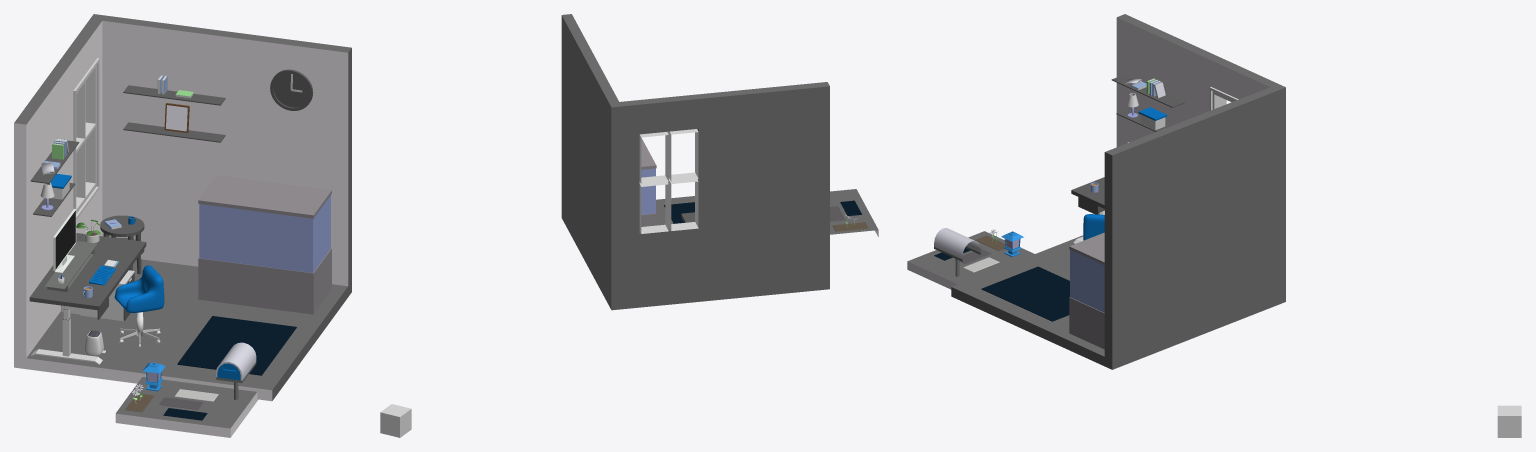
Rendered from Finale Version 16.glb.
3 renders of one model, left to right at view 1: azimuth 30°, elevation 25°; view 2: azimuth 150°, elevation 25°; view 3: azimuth 270°, elevation 25°, orthographic. The views are drawn at different scales.
Visible parts, largest first — view 1: Body, Aquarium, Desks, Floor Items, Mini Floor, Shelves, Table Stuff, Chair, Clock, Mailbox, Computer, Lamp (+3 smaller); view 2: Body, Mini Floor, Aquarium, Cube; view 3: Body, Aquarium, Floor Items, Mini Floor, Shelves, Mailbox, Desks, Cube.
Part boxes in pixels (x1,y1,x2,y2): Body: (14,14,351,401); Aquarium: (198,175,331,314); Desks: (29,215,146,364); Floor Items: (80,270,296,375); Mini Floor: (115,377,258,437); Shelves: (30,75,225,216); Table Stuff: (44,216,135,297); Chair: (114,265,164,312); Clock: (270,69,313,110); Mailbox: (216,342,256,399); Computer: (53,209,76,273); Lamp: (142,362,165,391); Body: (561,14,829,310); Mini Floor: (830,189,878,236); Aquarium: (641,138,656,226); Cube: (380,404,411,437); Body: (951,14,1285,369); Aquarium: (1069,232,1104,349); Floor Items: (981,266,1069,321); Mini Floor: (907,231,1034,289); Shelves: (1111,74,1184,131); Mailbox: (934,228,980,276); Desks: (1071,177,1104,243); Cube: (1497,405,1521,437).
Bounding box in the file's own units: 27.58 × 26.25 × 50.63.
